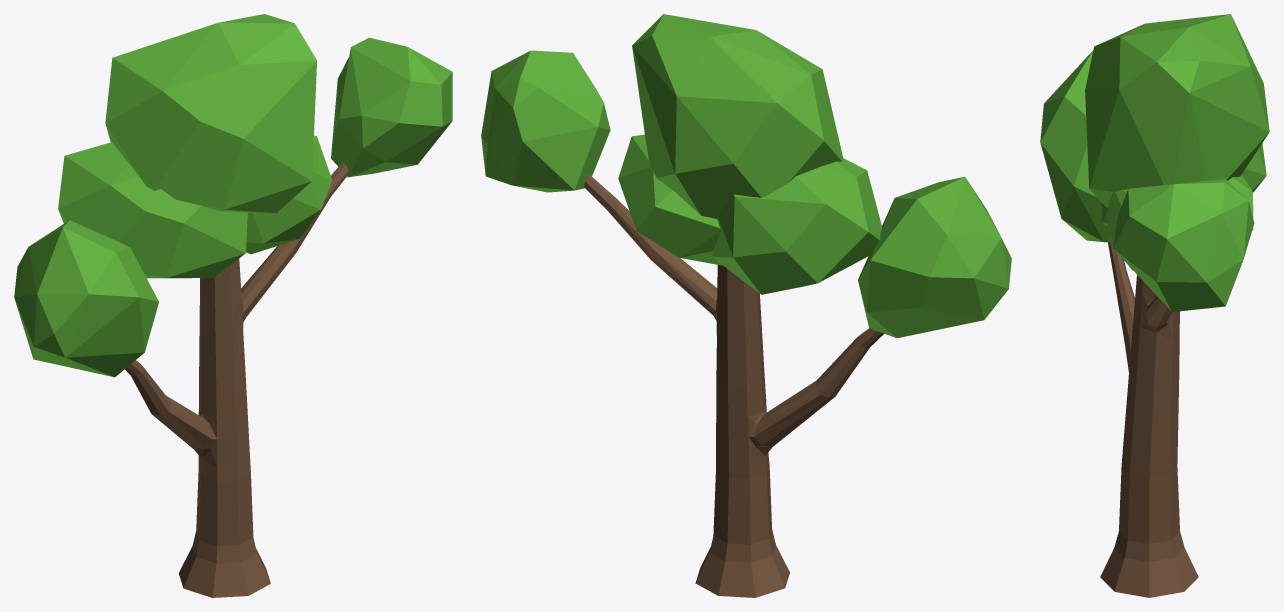
File: Tree-3.fbx
The picture shows the model from 3 angles, left to right: view 1: azimuth 30°, elevation 25°; view 2: azimuth 150°, elevation 25°; view 3: azimuth 270°, elevation 25°; orthographic projection. The views are drawn at different scales.
Parts seen in each view (by area): view 1: Herfst_Boom_3; view 2: Herfst_Boom_3; view 3: Herfst_Boom_3.
Boxes of the visible parts, left/top/right/bottom form: Herfst_Boom_3: left=14, top=14, right=452, bottom=597; Herfst_Boom_3: left=481, top=14, right=1011, bottom=597; Herfst_Boom_3: left=1040, top=14, right=1269, bottom=597.
Size of the model in its own units: 1838 by 2049 by 766.
1 material, 1 textured.
